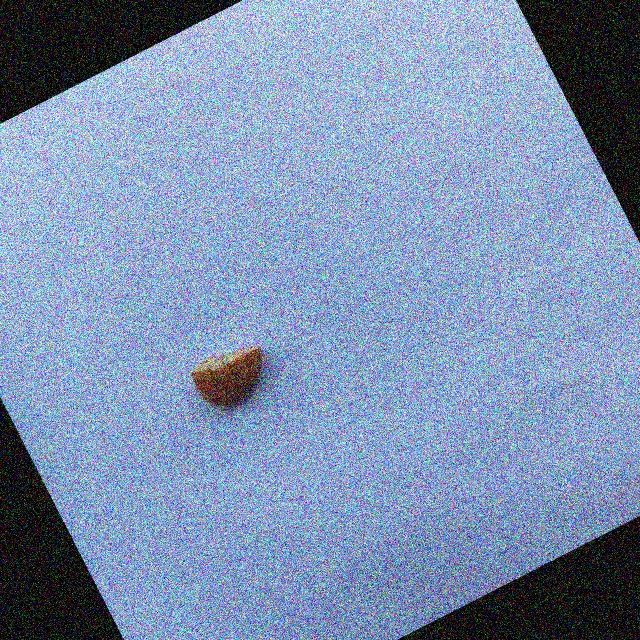grade4: (179, 327, 288, 424)
